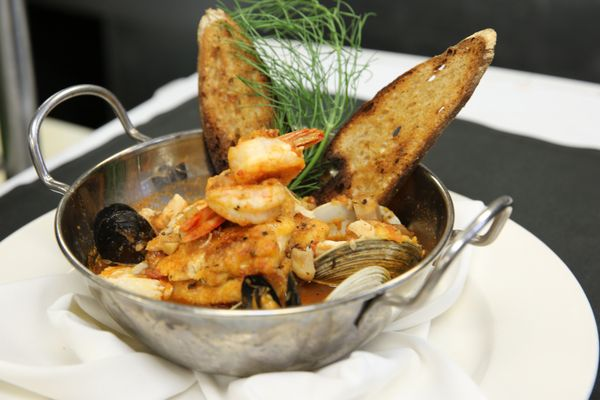sushi: (52, 118, 446, 378)
